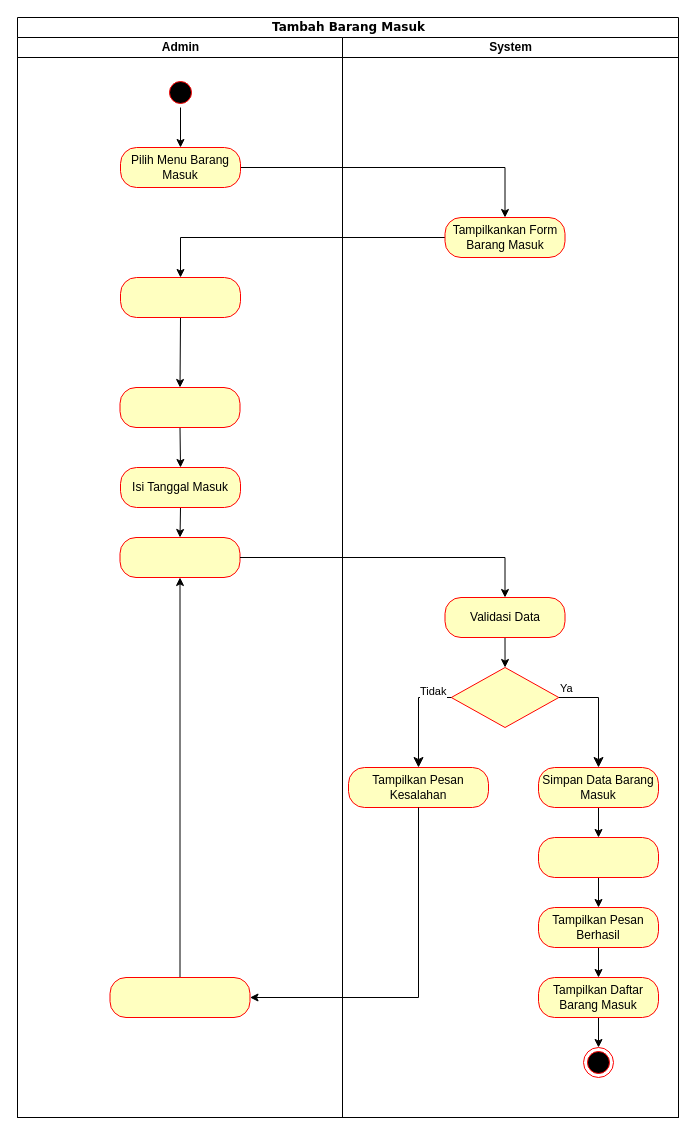
Some shapes in this 696 by 1135 pixel diagram are drawn without their labels. The shapes that lost their labels are listed below. From the top down, each one's centre as x and y in pixels, then its label:
(x=180, y=297): Pilih Barang
(x=179, y=407): Isi Jumlah Barang
(x=179, y=557): Klik Simpan
(x=504, y=697): Data Valid?
(x=598, y=857): Update Stok Barang
(x=179, y=997): Perbaiki Data
